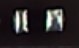COMP: (8, 3, 70, 38)
